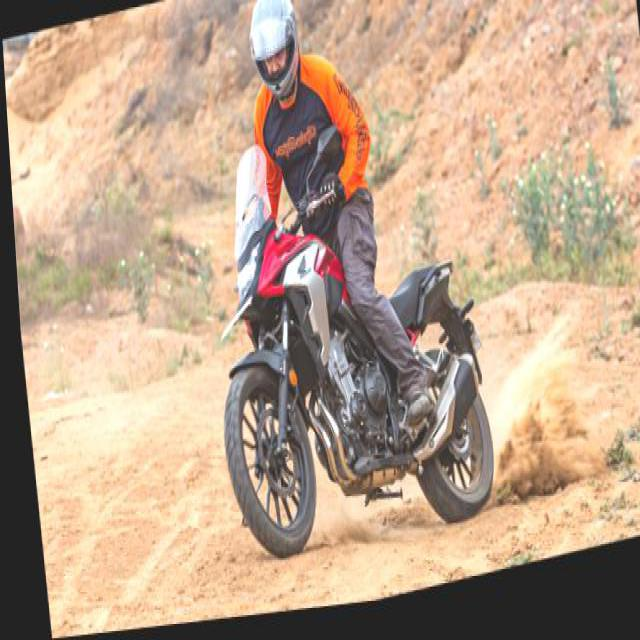CB500X: (190, 99, 493, 582)
